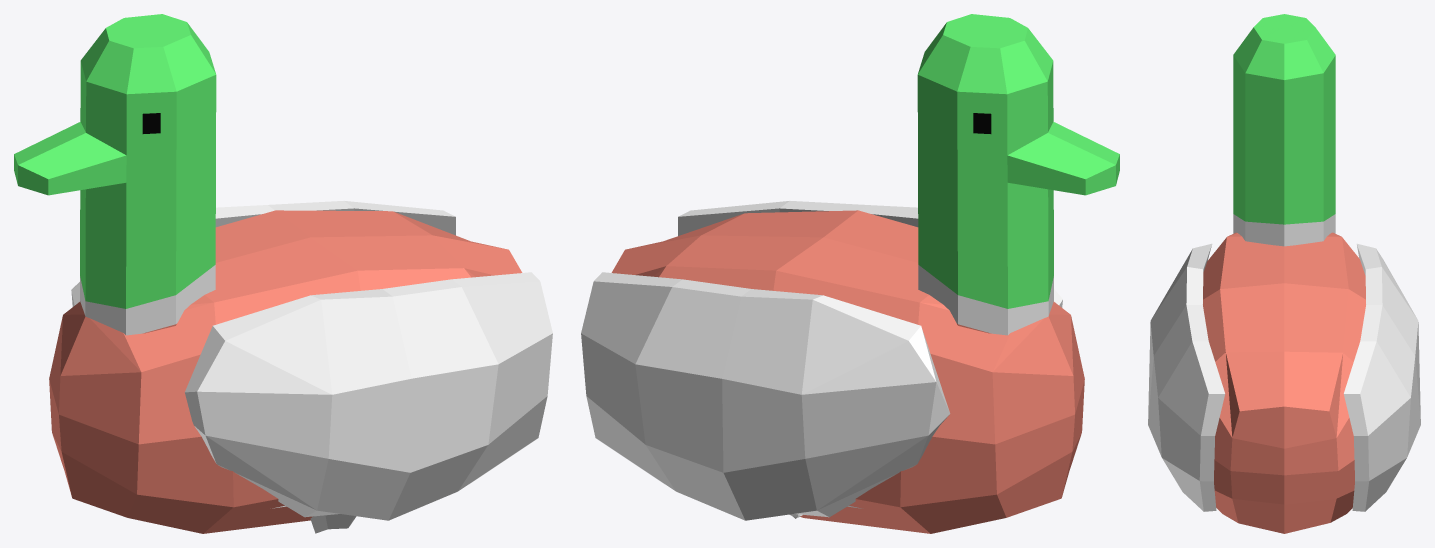
The model's file is ToyObject_102.fbx.
The picture shows the model from 3 angles, left to right: view 1: azimuth 30°, elevation 25°; view 2: azimuth 150°, elevation 25°; view 3: azimuth 270°, elevation 25°; orthographic projection. The views are drawn at different scales.
Parts seen in each view (by area): view 1: Object.056; view 2: Object.056; view 3: Object.056.
Boxes of the visible parts, <box> form: Object.056: <box>14,14,552,533</box>; Object.056: <box>581,14,1119,533</box>; Object.056: <box>1148,14,1420,533</box>.
Size of the model in its own units: 0.1709 by 0.1658 by 0.1033.
